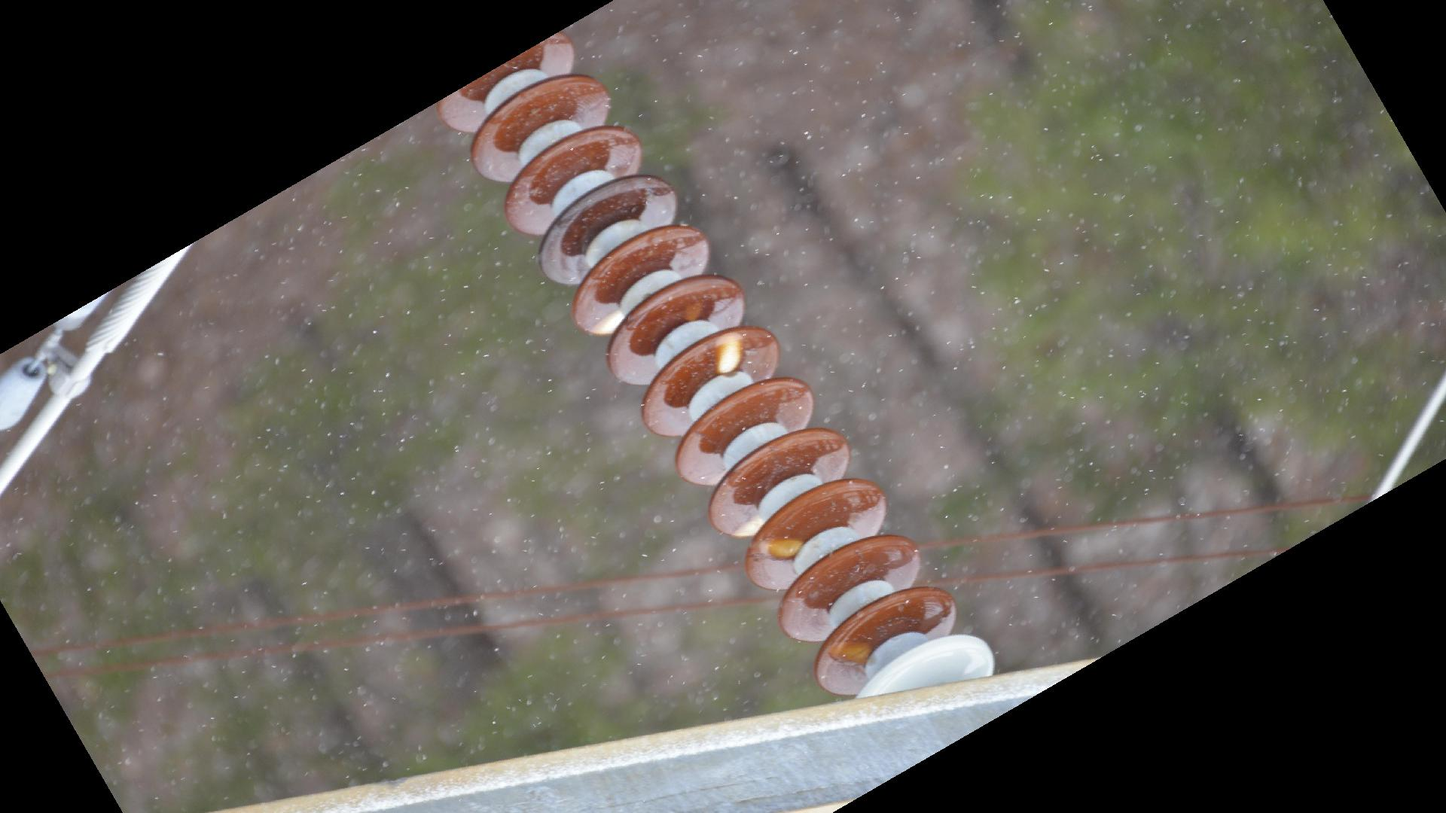insulator: (432, 24, 1003, 708)
insulator_flashover: (827, 635, 874, 668), (713, 329, 746, 376), (756, 532, 805, 562), (586, 309, 625, 339), (728, 513, 764, 540)
